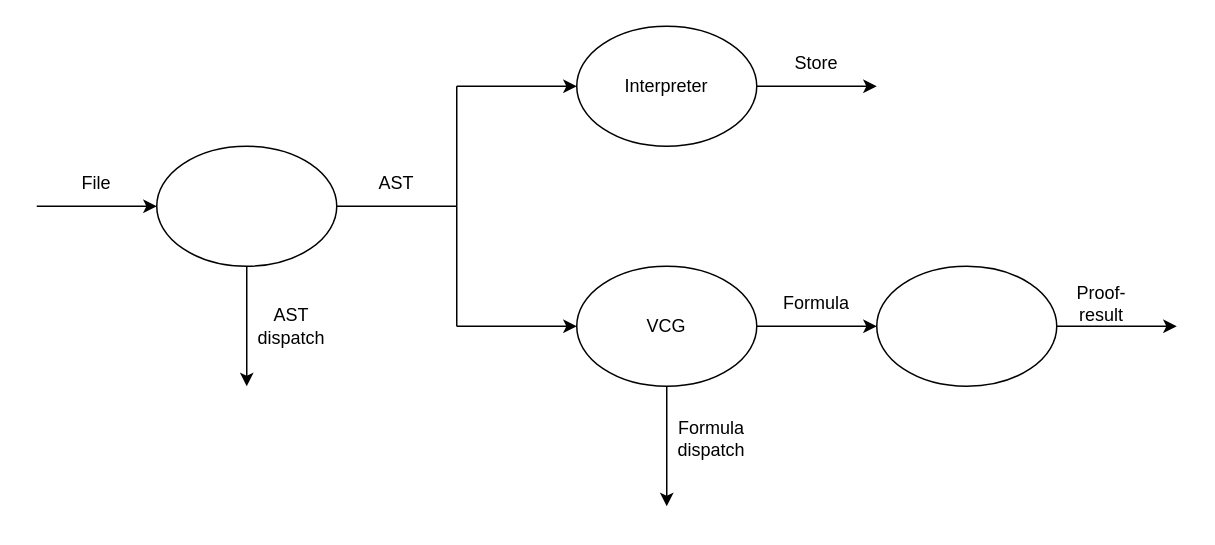
The diagram is 1215 pixels wide and 545 high, and some of its shapes have lost their labels. The shapes that lost their labels are listed below. From the top down, each one's centre as x and y in pixels, then its label:
At pixel 246 205: "Parser".
At pixel 966 325: "SBV API".
